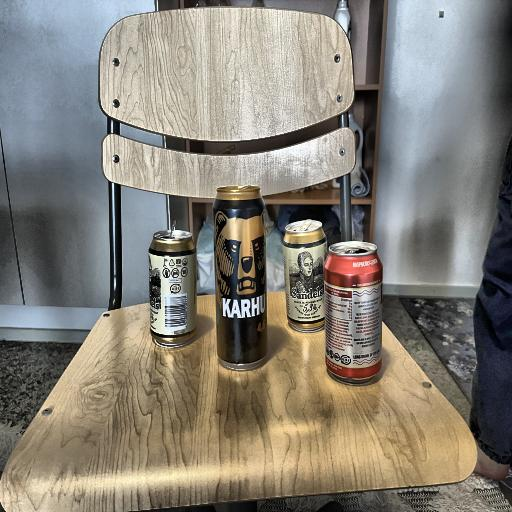karhu: (206, 186, 273, 376)
koff: (324, 240, 392, 382)
sandels: (142, 224, 200, 354), (276, 213, 322, 340)
